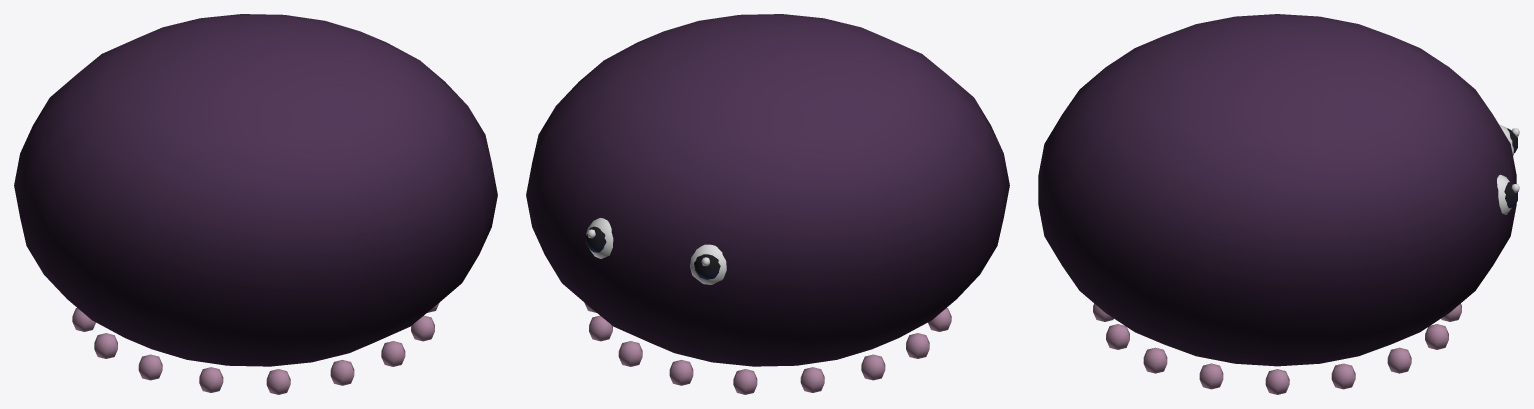
Rendered from Uni.fbx.
The picture shows the model from 3 angles, left to right: view 1: azimuth 30°, elevation 25°; view 2: azimuth 150°, elevation 25°; view 3: azimuth 270°, elevation 25°; orthographic projection.
Visible parts, largest first — view 1: Uni; view 2: Uni; view 3: Uni.
Boxes of the visible parts, x1,y1,x2,y2 form: Uni: (14, 14, 497, 394); Uni: (526, 14, 1009, 394); Uni: (1038, 14, 1519, 394).
Size of the model in its own units: 1.4 by 0.92 by 1.39.
